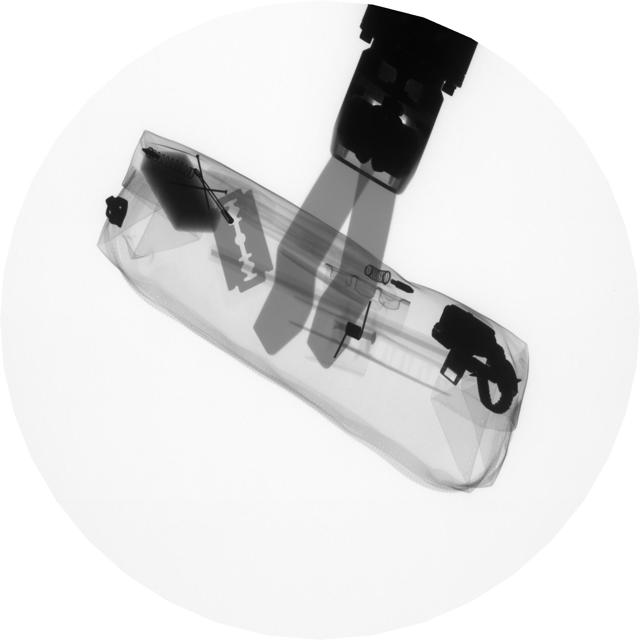razor: (200, 180, 282, 295)
